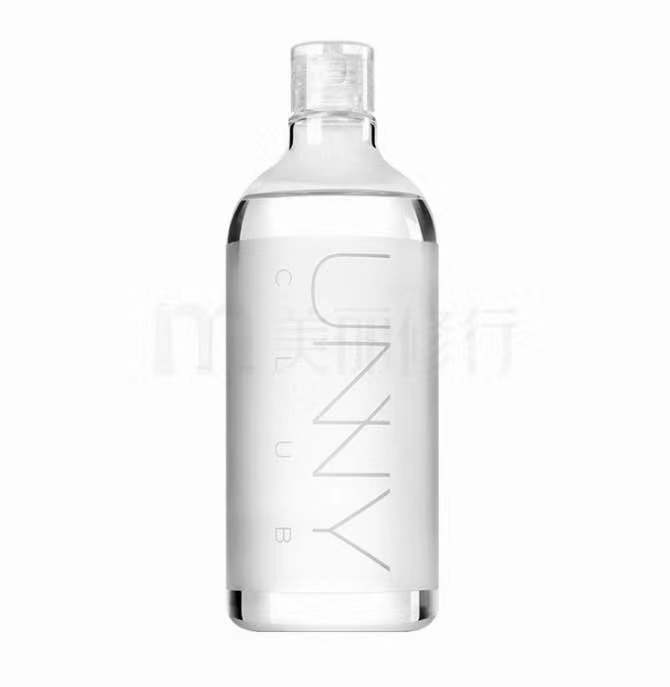cosmetic: (229, 39, 440, 629)
